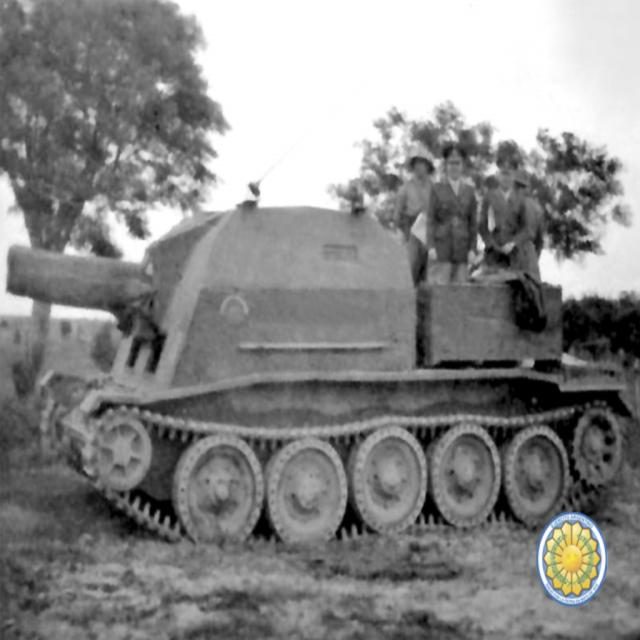tank: (2, 142, 638, 546)
